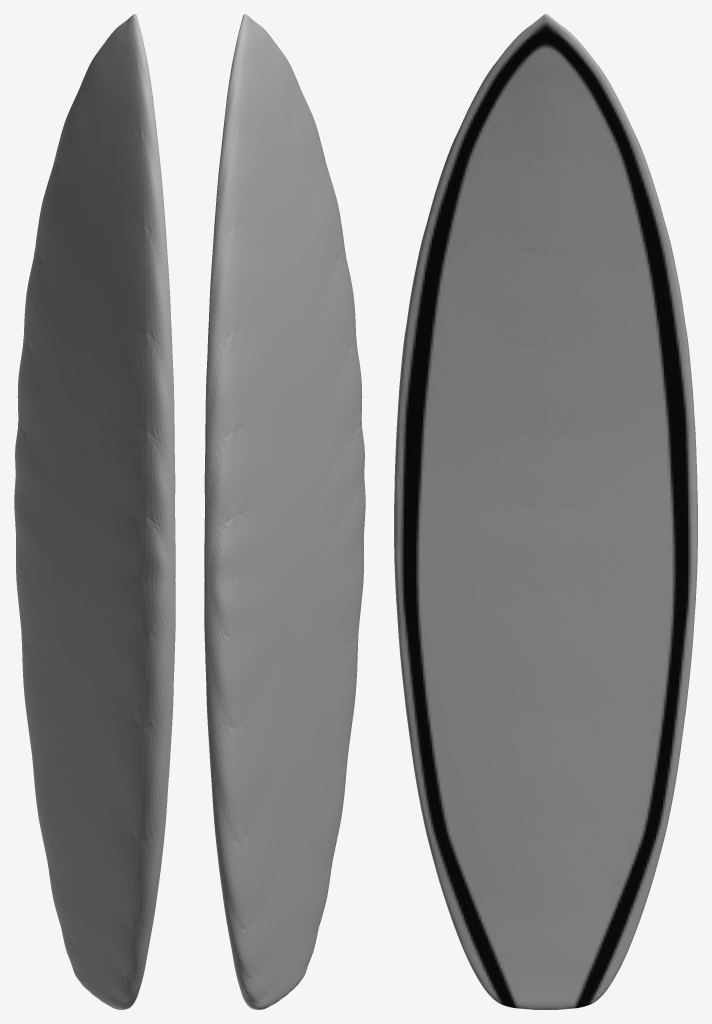
Rendered from skateboard.glb.
The picture shows the model from 3 angles, left to right: view 1: azimuth 30°, elevation 25°; view 2: azimuth 150°, elevation 25°; view 3: azimuth 270°, elevation 25°; orthographic projection. The views are drawn at different scales.
Visible parts, largest first — view 1: cgaxis_models_88_24_01; view 2: cgaxis_models_88_24_01; view 3: cgaxis_models_88_24_01.
Part boxes in pixels (<box>): cgaxis_models_88_24_01: <box>14,14,175,1009</box>; cgaxis_models_88_24_01: <box>204,14,365,1009</box>; cgaxis_models_88_24_01: <box>394,14,697,1009</box>.
Size of the model in its own units: 0.1476 by 2.36 by 0.6437.
Materials: 1 (1 with a texture image).
